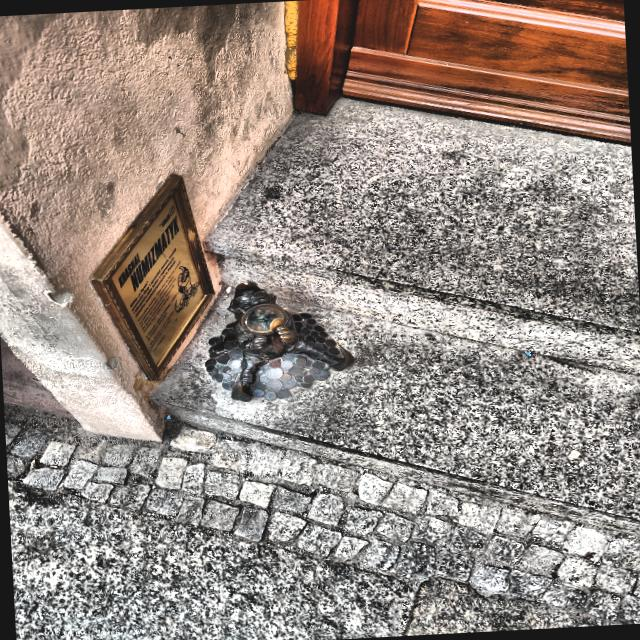Numizmatyk: (205, 281, 354, 402)
